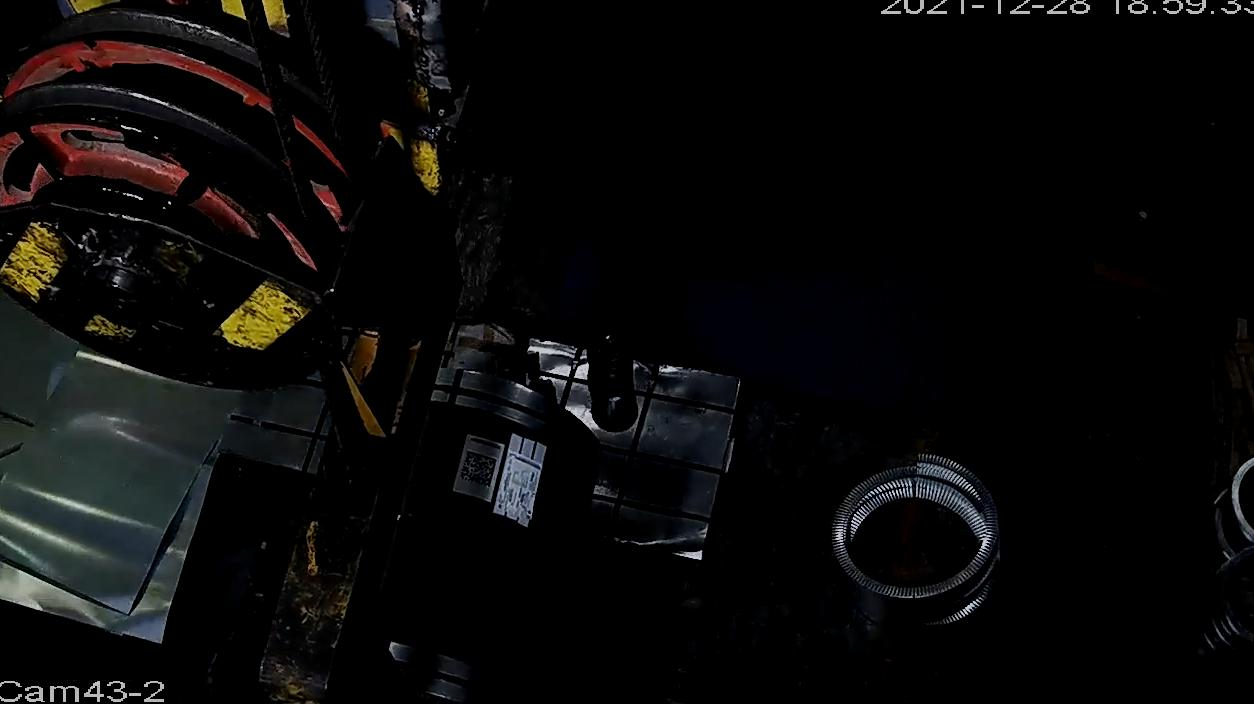data matrix: (458, 450, 501, 490)
